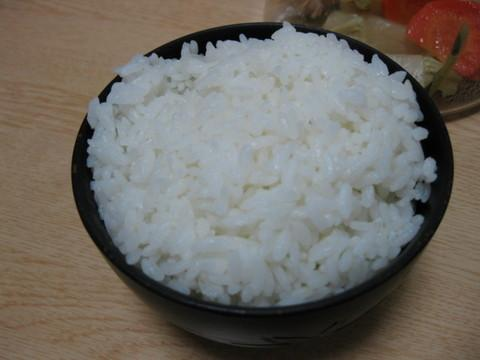rice: (88, 25, 435, 306)
